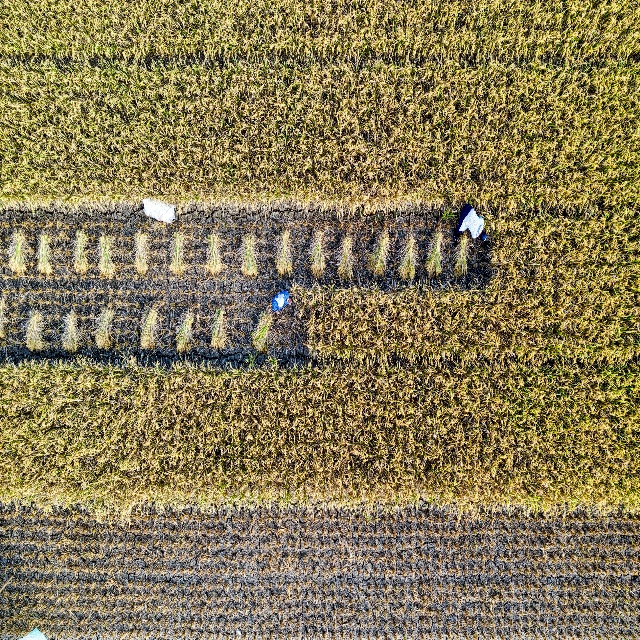Sin_guantes: (288, 298, 292, 305)
